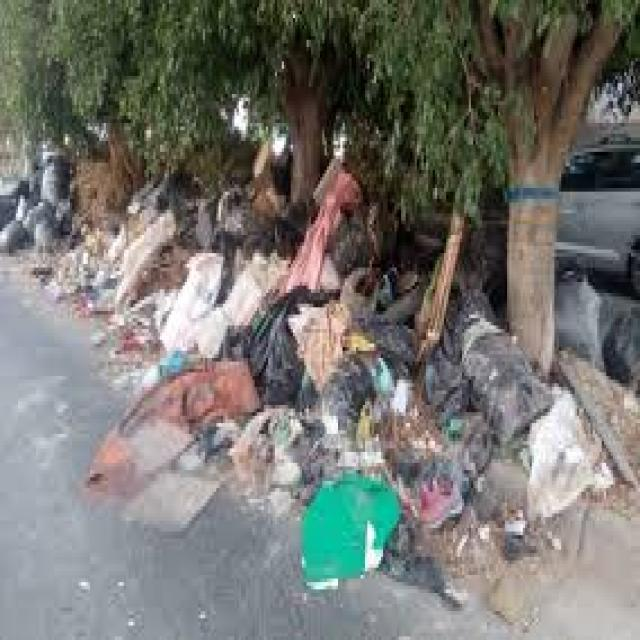garbage: (0, 127, 591, 513)
